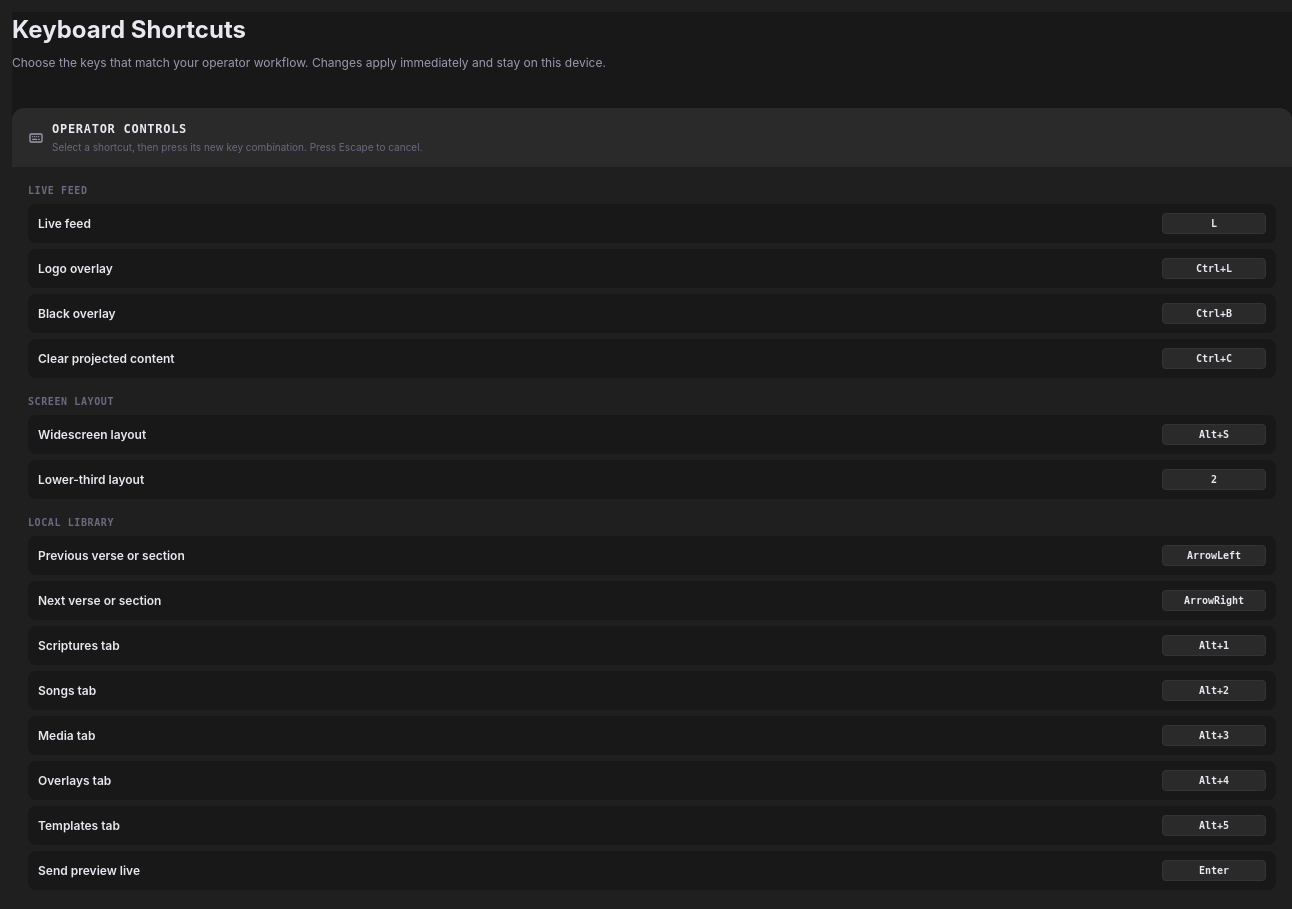
Test: shortcut recording › warns when a shortcut moves and leaves its previous action unassigned
The width and height of the screenshot is (1292, 909).
Click the button with aria-label "Change shortcut for Logo overlay".
click(1214, 268)  # box [1162,258,1266,279]
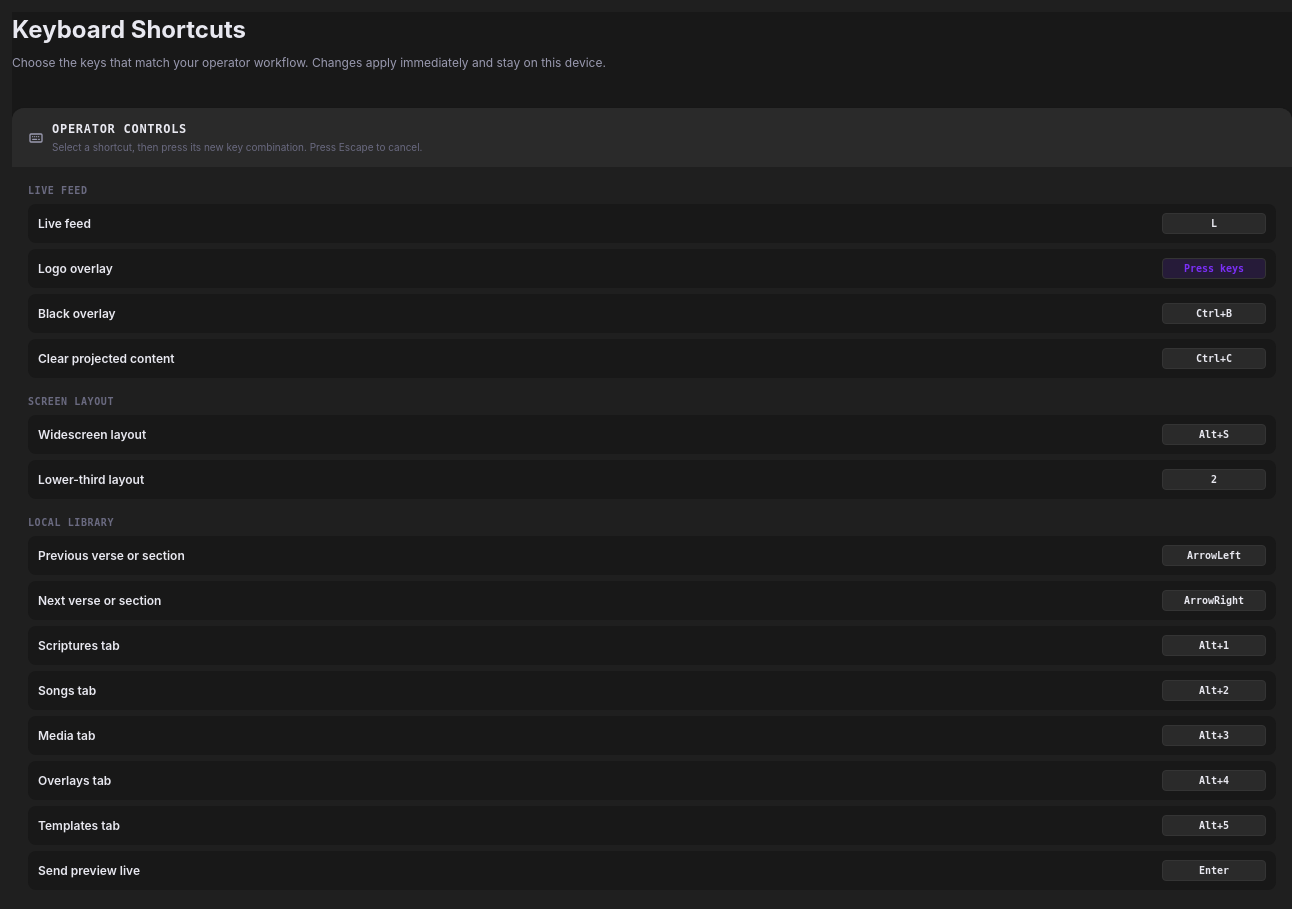
Press b in the button with aria-label "Change shortcut for Logo overlay", box [1162,258,1266,279]
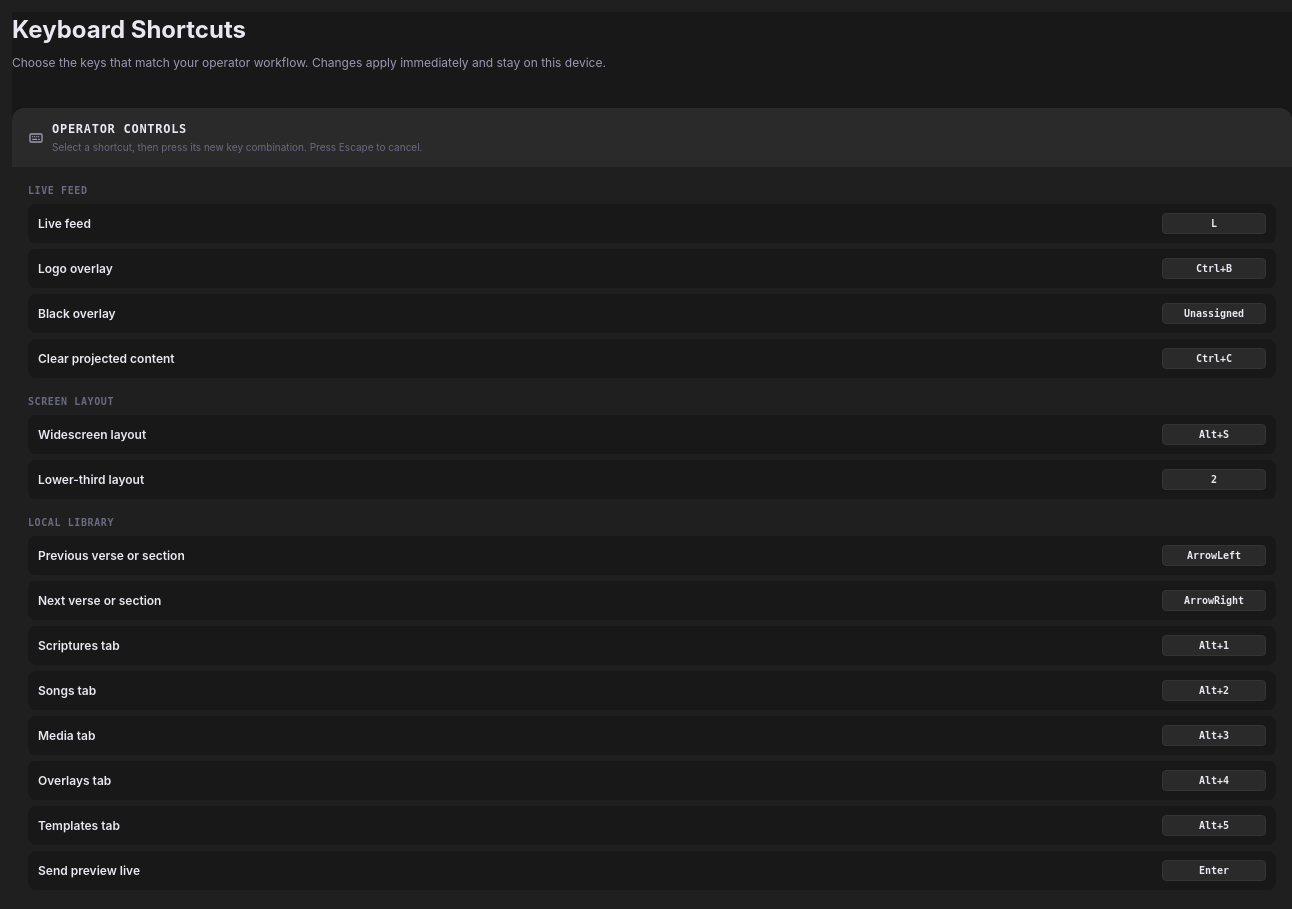
Check: the button with aria-label "Change shortcut for Logo overlay" reads "Ctrl+B", box [1162,258,1266,279]
Check: the button with aria-label "Change shortcut for Black overlay" reads "Unassigned"
Click the button with aria-label "Change shortcut for Black overlay".
click(1214, 314)  # box [1162,303,1266,324]
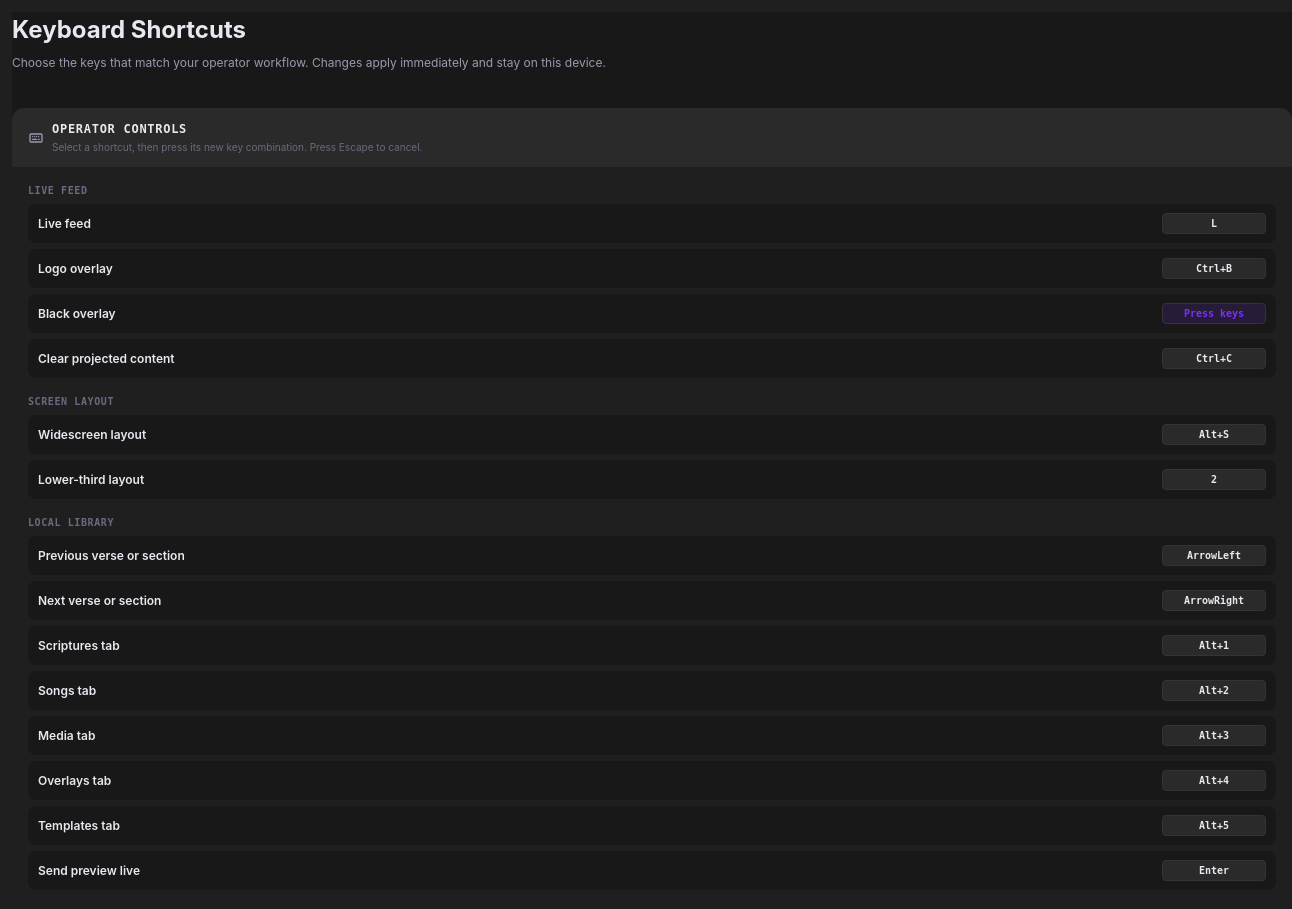
Press j in the button with aria-label "Change shortcut for Black overlay", box [1162,303,1266,324]
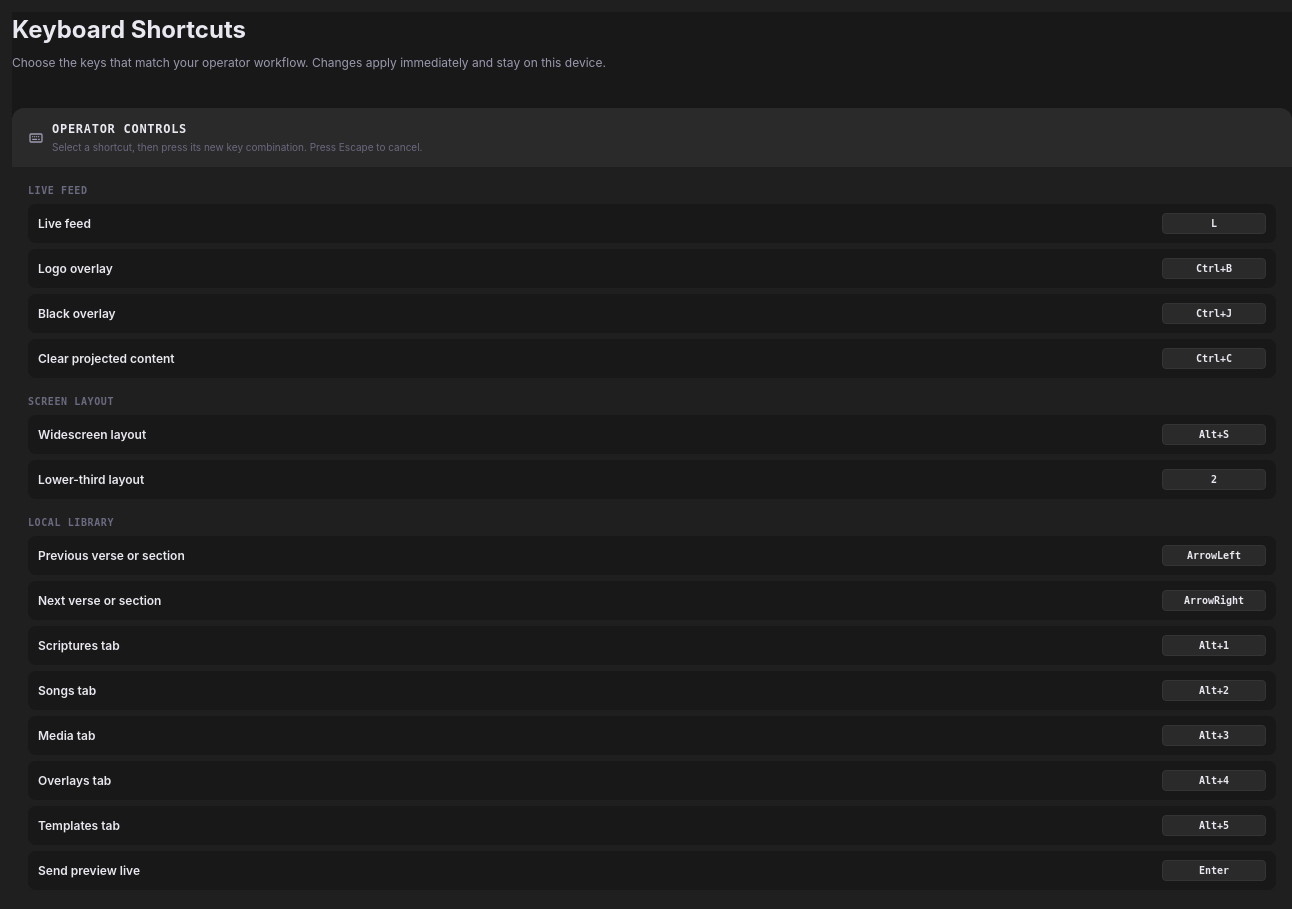
Check: the button with aria-label "Change shortcut for Logo overlay" reads "Ctrl+B", box [1162,258,1266,279]
Check: the button with aria-label "Change shortcut for Black overlay" reads "Ctrl+J", box [1162,303,1266,324]
